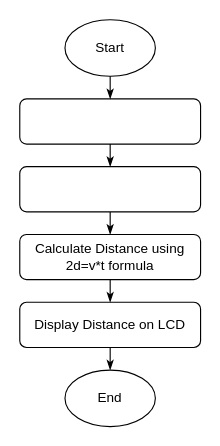
Some shapes in this 220 by 446 pixel diagram are drawn without their labels. The shapes that lost their labels are listed below. From the top down, each one's centre as x and y in pixels, then its label:
At (110,121): "Initialize Microcontroller".
At (110,189): "Measure Time Delay".
